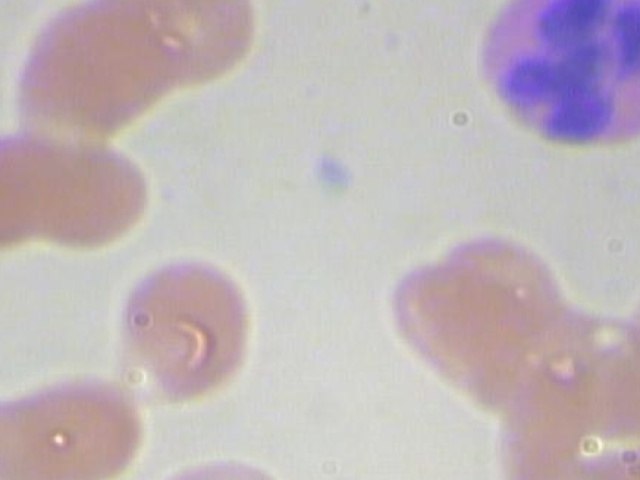Platelets: (299, 145, 376, 194)
RBC: (107, 251, 262, 403), (25, 126, 155, 256), (0, 374, 156, 480), (113, 0, 268, 102), (0, 125, 74, 254)
WBC: (439, 0, 640, 166)
